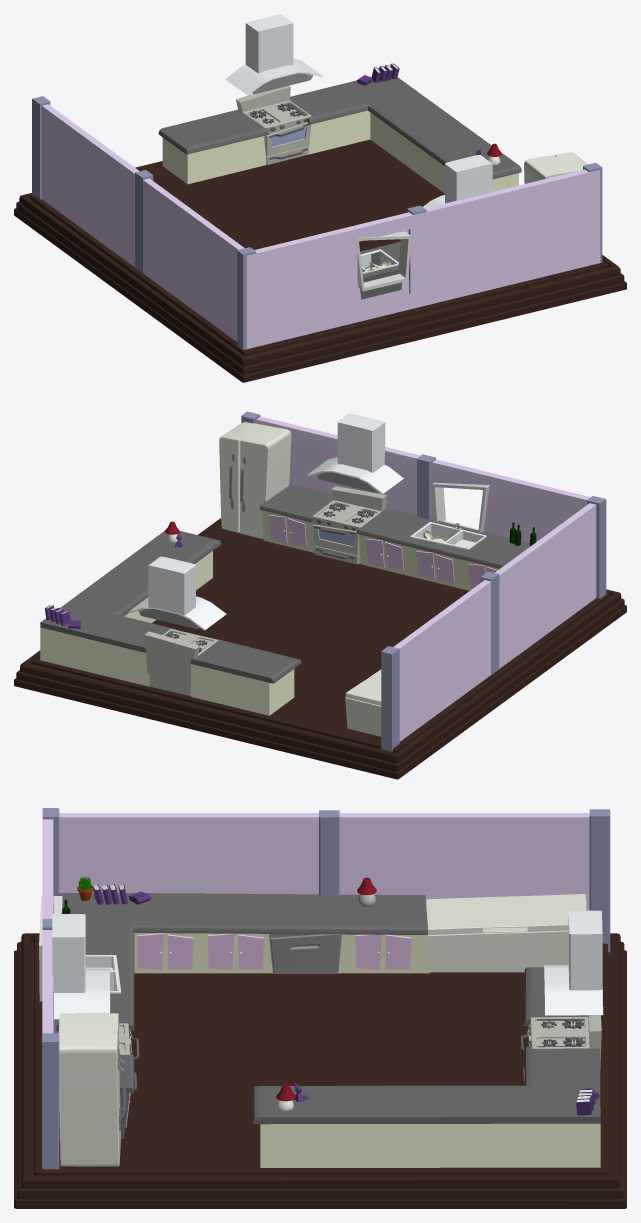
File: cuisine_v2.fbx
3 renders of one model, top to bottom at view 1: azimuth 30°, elevation 25°; view 2: azimuth 150°, elevation 25°; view 3: azimuth 270°, elevation 25°, orthographic. The views are drawn at different scales.
Visible parts, largest first — view 1: map; view 2: map; view 3: map.
Part boxes in pixels (x1,y1,x2,y2): map: (14, 14, 626, 382); map: (14, 411, 626, 779); map: (14, 808, 626, 1208).
Size of what is drawn, in the model's own units: 1291 by 464 by 1335.
